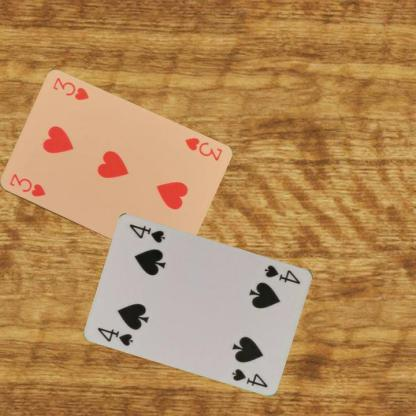3h: (6, 171, 47, 198), (182, 135, 223, 162)
4s: (262, 262, 302, 285), (95, 324, 135, 347)
